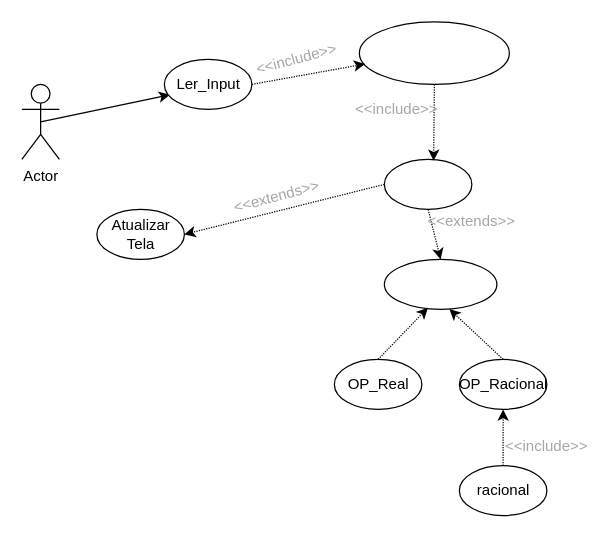
The diagram is 610 pixels wide and 538 high, and some of its shapes have lost their labels. The shapes that lost their labels are listed below. From the top down, each one's box as (x1, y1, x2, y2) in pixels, then its label:
(358, 21, 509, 84): Atualizar estado_calculadora
(383, 158, 472, 209): Ação_calc
(383, 258, 497, 309): Realizar_Ação
